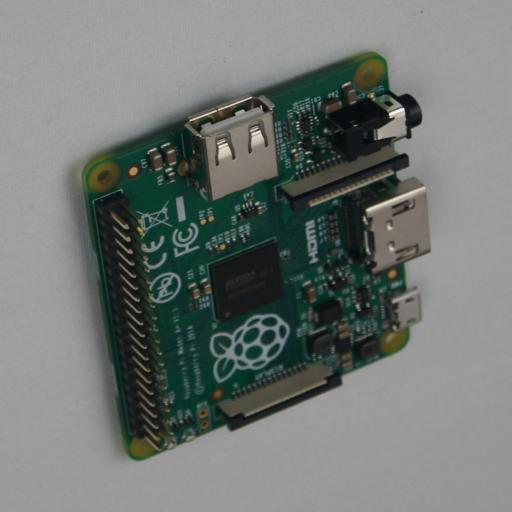Raspberry Pi A-: (76, 52, 430, 460)
